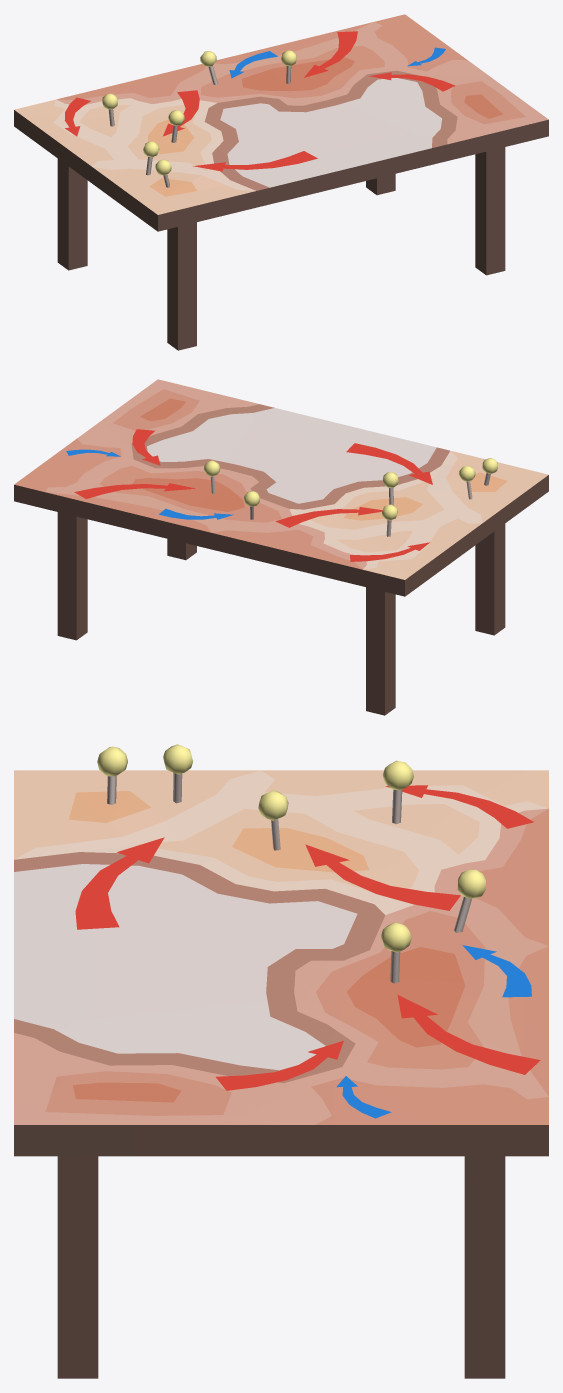
Rendered from table_001.glb.
3 renders of one model, top to bottom at view 1: azimuth 30°, elevation 25°; view 2: azimuth 150°, elevation 25°; view 3: azimuth 270°, elevation 25°, orthographic. The views are drawn at different scales.
Visible parts, largest first — view 1: table_001; view 2: table_001; view 3: table_001.
Boxes of the visible parts, x1=… form: table_001: x1=14, y1=14, x2=548, y2=350; table_001: x1=14, y1=379, x2=548, y2=715; table_001: x1=14, y1=744, x2=548, y2=1378.
Bounding box in the file's own units: 2.07 × 0.9299 × 1.32.
1 material, 1 textured.
